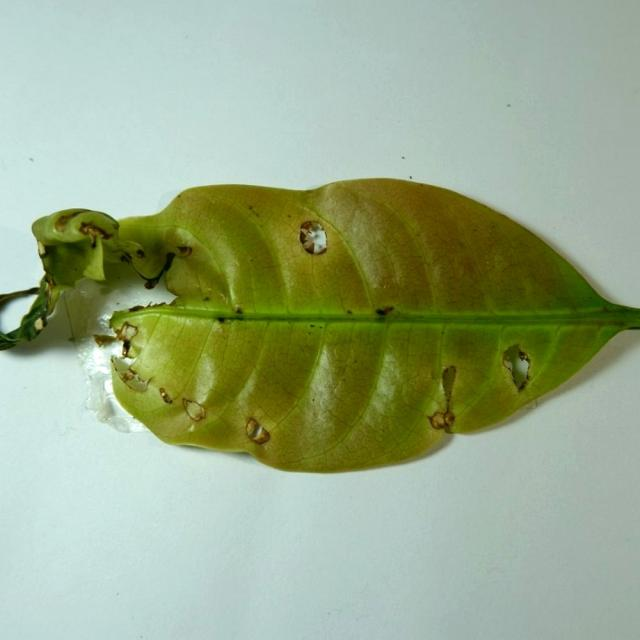Anthracnose: (274, 220, 335, 263), (428, 363, 459, 432), (502, 346, 531, 390), (298, 220, 328, 255), (116, 362, 149, 393), (245, 417, 271, 443), (428, 408, 456, 431), (181, 397, 206, 421), (441, 365, 457, 394), (375, 306, 395, 316), (176, 245, 192, 256)
Mango: (0, 179, 639, 477)
